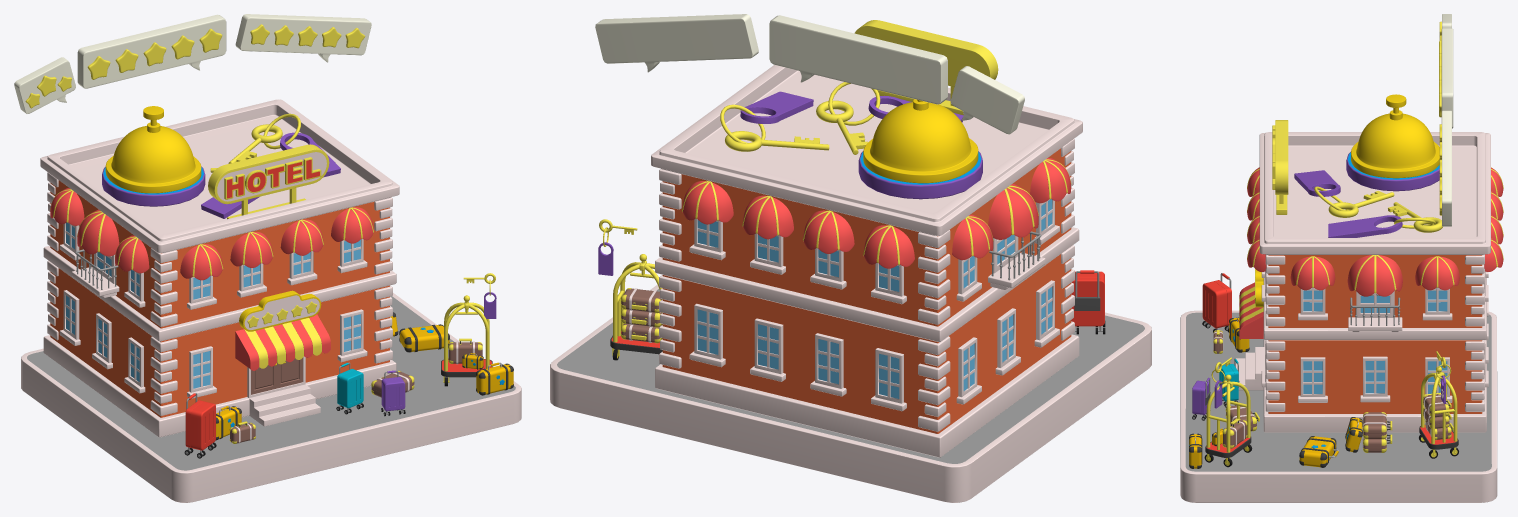
Rendered from Public_Island_7.glb.
3 renders of one model, left to right at view 1: azimuth 30°, elevation 25°; view 2: azimuth 150°, elevation 25°; view 3: azimuth 270°, elevation 25°, orthographic. The views are drawn at different scales.
Parts seen in each view (by area): view 1: Public_7_Hotel_1, Public_7_Base_1, Public_7_Table_Bell_1, Public_7_Review_Sign_2, Public_7_Review_Sign_3, Public_7_Hotel_Sign_1, Public_7_Review_Sign_1, Public_7_Hotel_Stars_Sign_1, Public_7_Suitcase_4, Public_7_Key_1, Public_7_Luggage_Trolley_2, Public_7_Suitcase_2 (+6 smaller); view 2: Public_7_Hotel_1, Public_7_Base_1, Public_7_Table_Bell_1, Public_7_Review_Sign_2, Public_7_Review_Sign_3, Public_7_Hotel_Sign_1, Public_7_Review_Sign_1, Public_7_Key_1, Public_7_Key_4, Public_7_Suitcase_4, Public_7_Luggage_Trolley_1, Public_7_Suitcase_10 (+1 smaller); view 3: Public_7_Hotel_1, Public_7_Base_1, Public_7_Table_Bell_1, Public_7_Key_1, Public_7_Luggage_Trolley_2, Public_7_Luggage_Trolley_1, Public_7_Key_4, Public_7_Hotel_Sign_1, Public_7_Review_Sign_3, Public_7_Suitcase_4, Public_7_Review_Sign_2, Public_7_Suitcase_11 (+11 smaller).
Part boxes in pixels (x1,y1,x2,y2): Public_7_Hotel_1: [40, 99, 399, 437]; Public_7_Base_1: [21, 293, 521, 502]; Public_7_Table_Bell_1: [102, 106, 205, 206]; Public_7_Review_Sign_2: [77, 14, 226, 88]; Public_7_Review_Sign_3: [235, 14, 371, 62]; Public_7_Hotel_Sign_1: [208, 144, 329, 219]; Public_7_Review_Sign_1: [14, 57, 75, 113]; Public_7_Hotel_Stars_Sign_1: [239, 290, 321, 331]; Public_7_Suitcase_4: [184, 393, 216, 458]; Public_7_Key_1: [228, 113, 340, 177]; Public_7_Luggage_Trolley_2: [441, 295, 492, 386]; Public_7_Suitcase_2: [336, 362, 363, 414]; Public_7_Hotel_1: [651, 65, 1082, 457]; Public_7_Base_1: [550, 285, 1151, 502]; Public_7_Table_Bell_1: [858, 99, 982, 199]; Public_7_Review_Sign_2: [769, 15, 947, 104]; Public_7_Review_Sign_3: [595, 14, 758, 72]; Public_7_Hotel_Sign_1: [854, 20, 998, 115]; Public_7_Review_Sign_1: [950, 66, 1024, 134]; Public_7_Key_1: [720, 91, 829, 151]; Public_7_Key_4: [816, 82, 963, 154]; Public_7_Suitcase_4: [1071, 270, 1105, 334]; Public_7_Luggage_Trolley_1: [610, 254, 662, 360]; Public_7_Suitcase_10: [621, 288, 661, 313]; Public_7_Hotel_1: [1235, 132, 1503, 432]; Public_7_Base_1: [1180, 310, 1497, 502]; Public_7_Table_Bell_1: [1346, 94, 1439, 191]; Public_7_Key_1: [1328, 202, 1442, 237]; Public_7_Luggage_Trolley_2: [1204, 374, 1252, 467]; Public_7_Luggage_Trolley_1: [1419, 366, 1458, 458]; Public_7_Key_4: [1294, 170, 1394, 217]; Public_7_Hotel_Sign_1: [1272, 120, 1288, 214]; Public_7_Review_Sign_3: [1439, 110, 1451, 226]; Public_7_Suitcase_4: [1202, 273, 1231, 332]; Public_7_Review_Sign_2: [1439, 28, 1453, 128]; Public_7_Suitcase_11: [1299, 436, 1338, 467].
Size of the model in its own units: 16.35 by 14.41 by 12.76.
30 materials, 30 textured.
